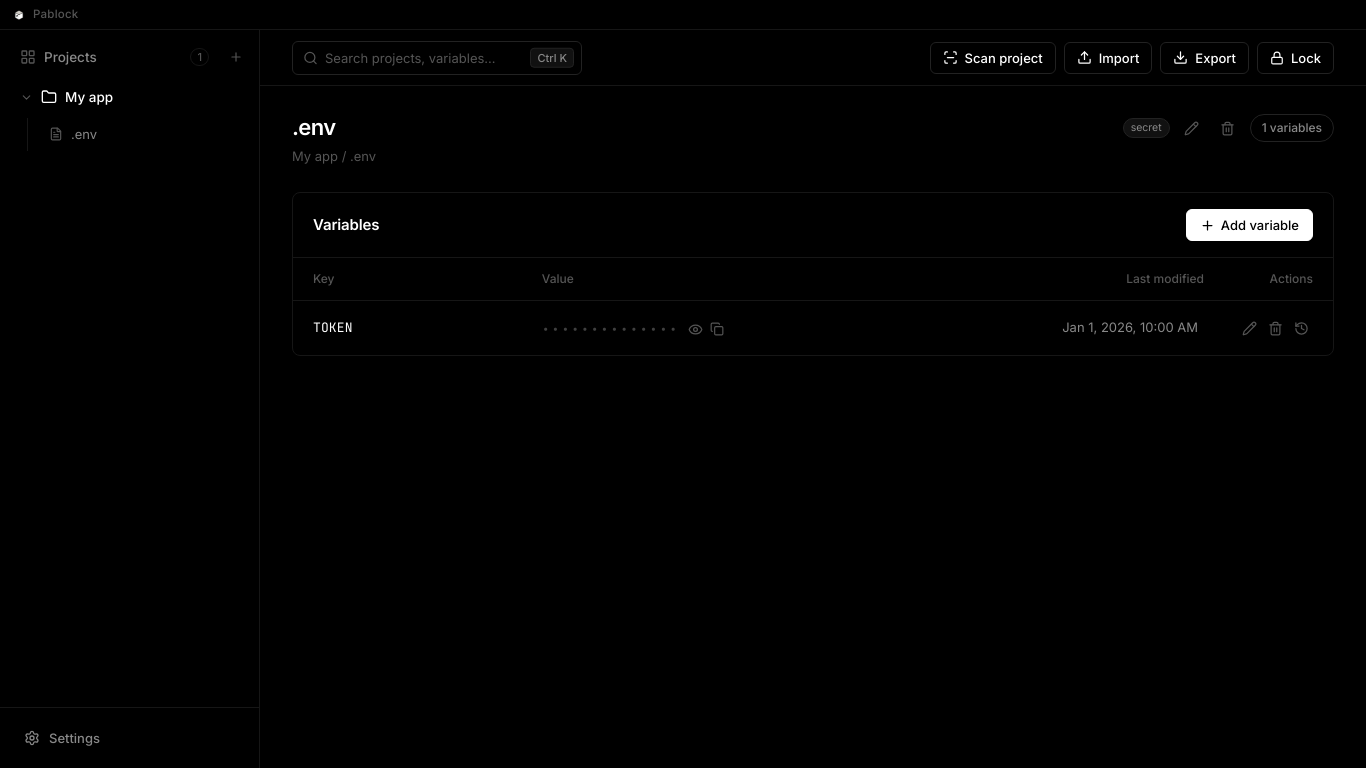
it: vault workflows › compares export and requests explicit overwrite selection
Step 1. Click the button with aria-label "Diff & export" → click(1205, 58), box [1160, 42, 1249, 74]
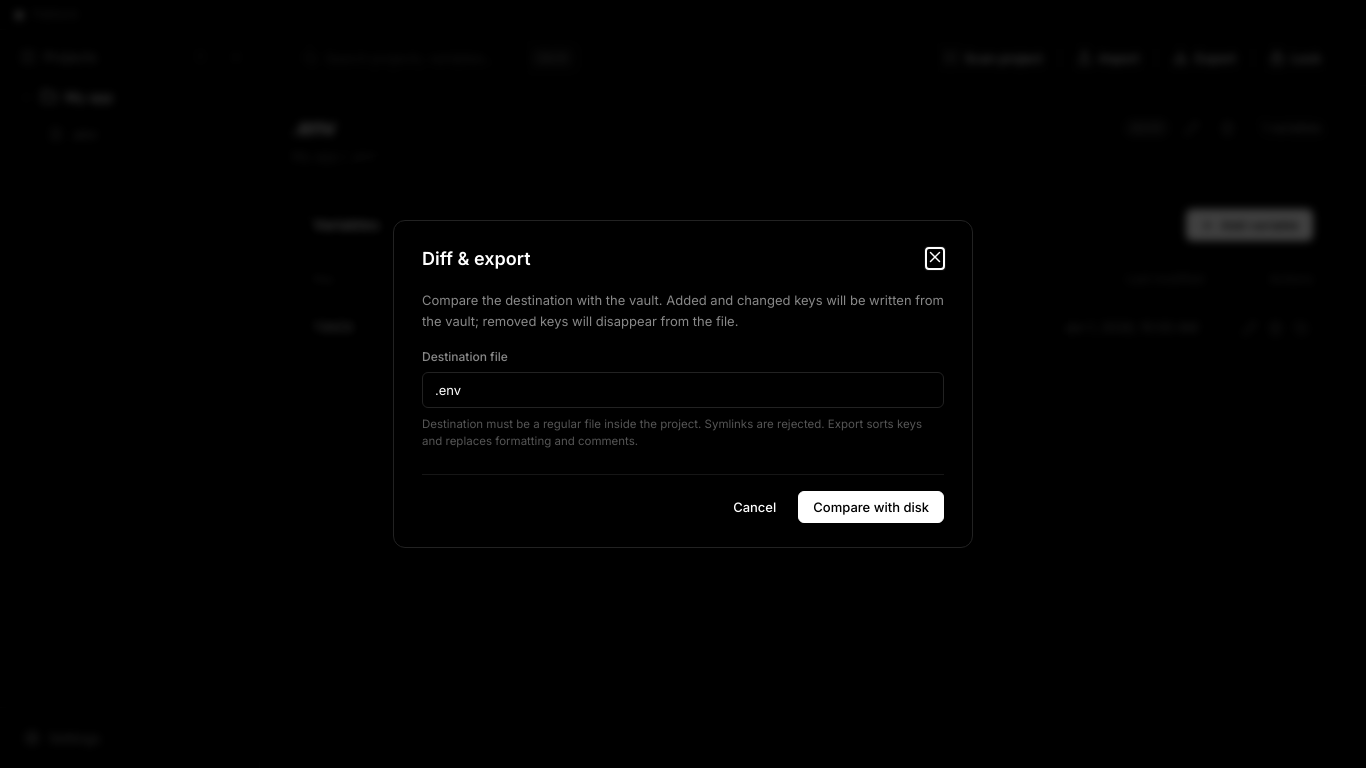
Step 2. Click the button "Compare with disk" → click(871, 507), box [798, 491, 944, 523]
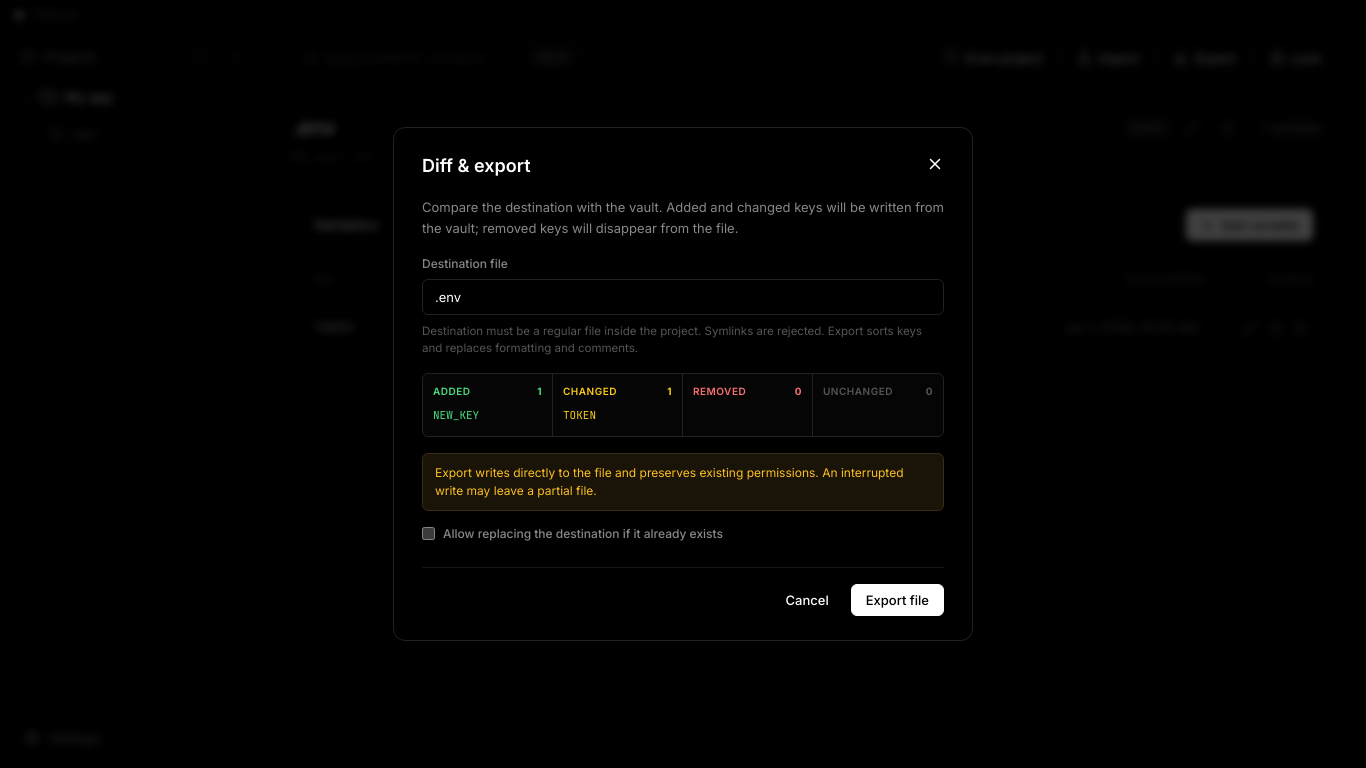
Now the list item "NEW_KEY" is shown, box [433, 408, 479, 422]
Step 3. Click the checkbox → click(428, 534), box [422, 527, 435, 540]
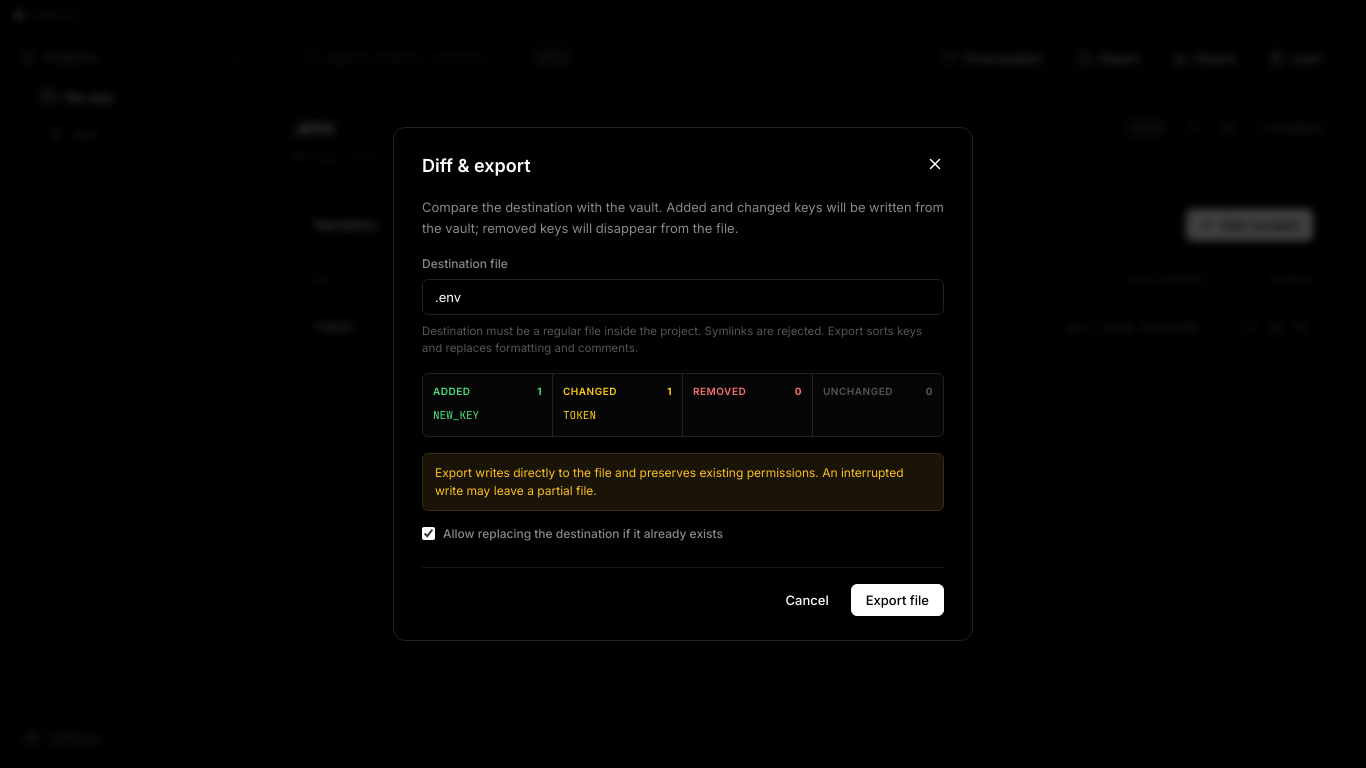
Step 4. Click the button "Export file" → click(897, 600), box [851, 584, 944, 616]
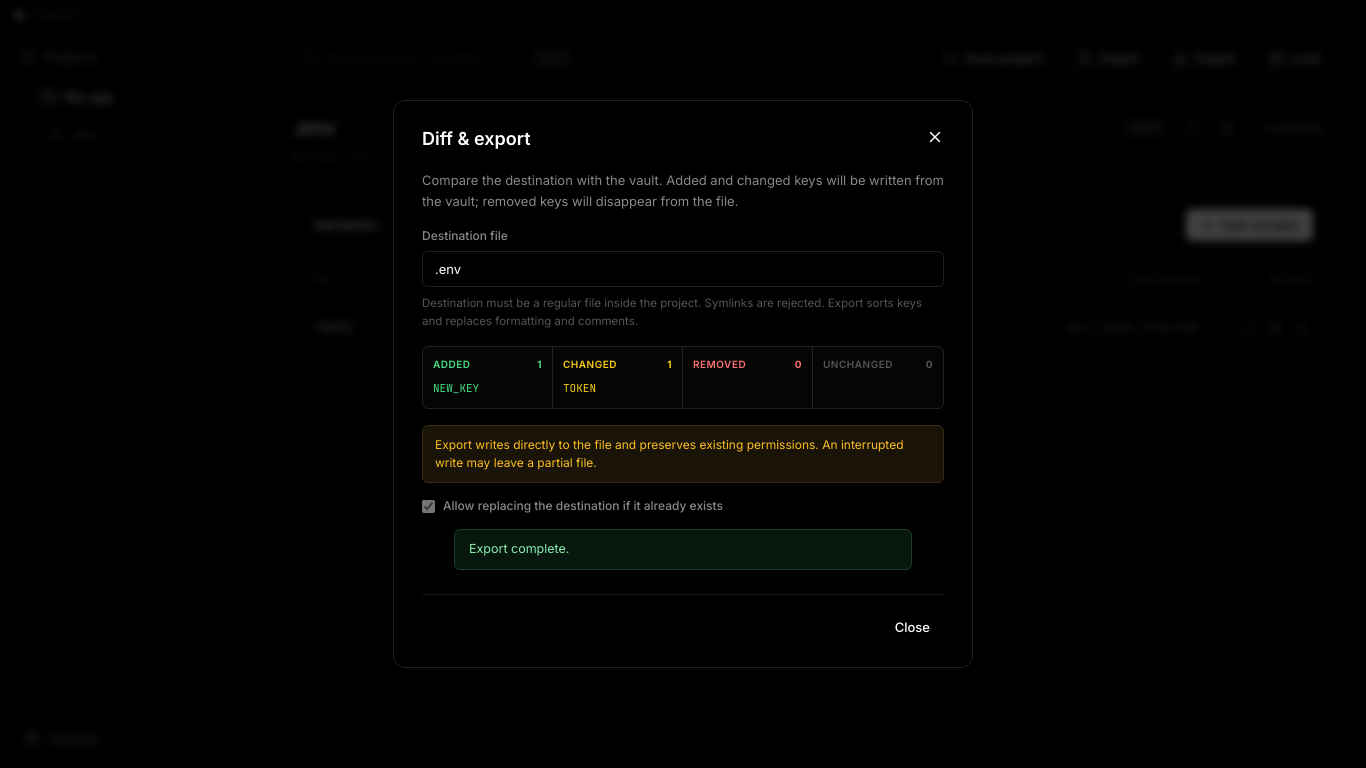
Now the text "Export complete." is shown, box [454, 529, 912, 570]
